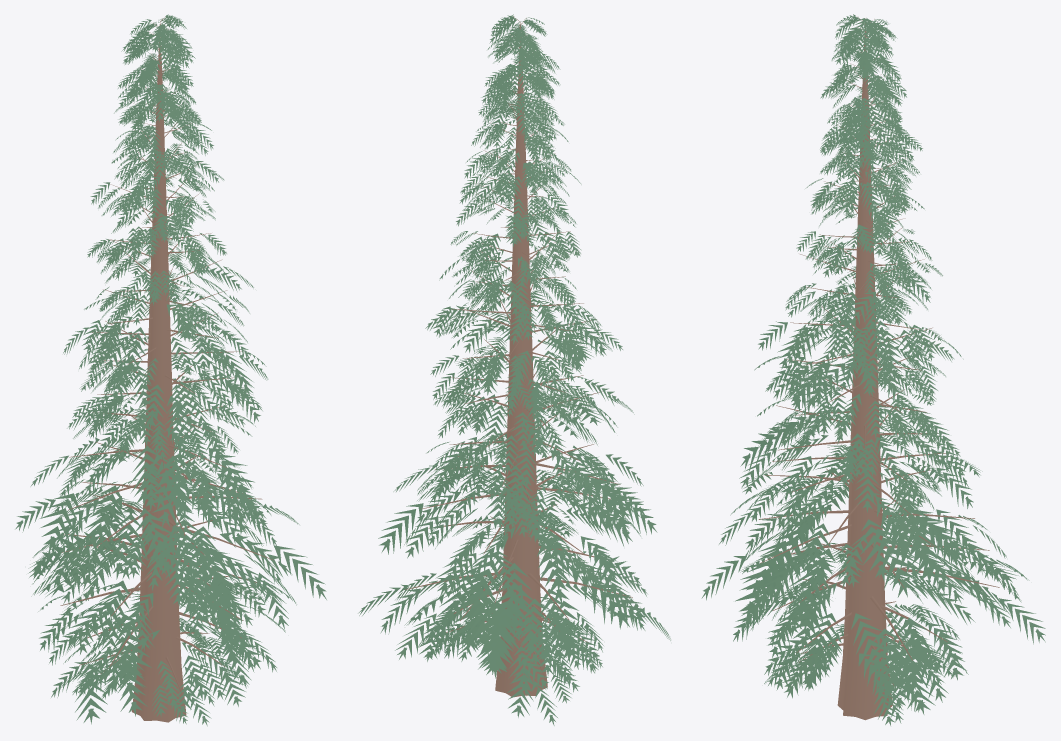
The model's file is Blender_YoungRedwood_1.glb.
The picture shows the model from 3 angles, left to right: view 1: azimuth 30°, elevation 25°; view 2: azimuth 150°, elevation 25°; view 3: azimuth 270°, elevation 25°; orthographic projection. The views are drawn at different scales.
Parts seen in each view (by area): view 1: Blender_YoungRedwood_1; view 2: Blender_YoungRedwood_1; view 3: Blender_YoungRedwood_1.
Boxes of the visible parts, box(x1,y1,x2,y2) form: Blender_YoungRedwood_1: box(15, 14, 326, 726); Blender_YoungRedwood_1: box(358, 14, 670, 725); Blender_YoungRedwood_1: box(701, 14, 1045, 725).
Bounding box in the file's own units: 11.27 × 27.76 × 12.53.
